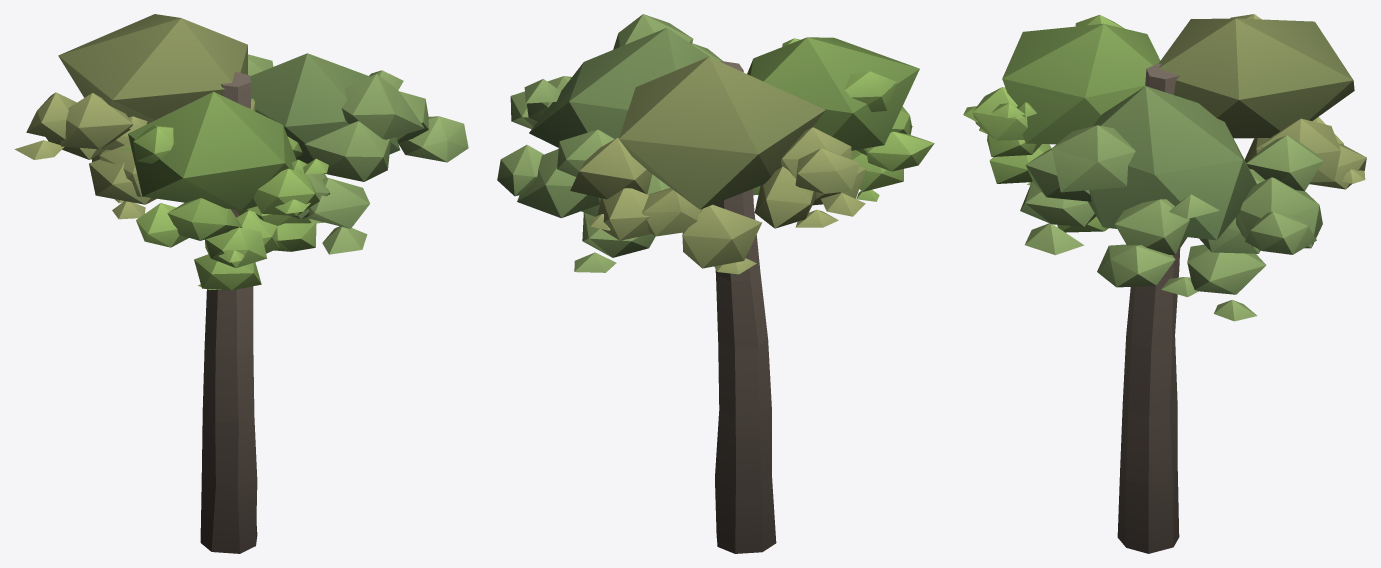
File: env_tree_prairie_01.glb
3 renders of one model, left to right at view 1: azimuth 30°, elevation 25°; view 2: azimuth 150°, elevation 25°; view 3: azimuth 270°, elevation 25°, orthographic. The views are drawn at different scales.
Visible parts, largest first — view 1: tree_prairie_01; view 2: tree_prairie_01; view 3: tree_prairie_01.
Boxes of the visible parts, x1=… form: tree_prairie_01: x1=14, y1=14, x2=468, y2=553; tree_prairie_01: x1=497, y1=14, x2=934, y2=553; tree_prairie_01: x1=963, y1=14, x2=1366, y2=553.
Bounding box in the file's own units: 4.83 × 5.89 × 4.16.
